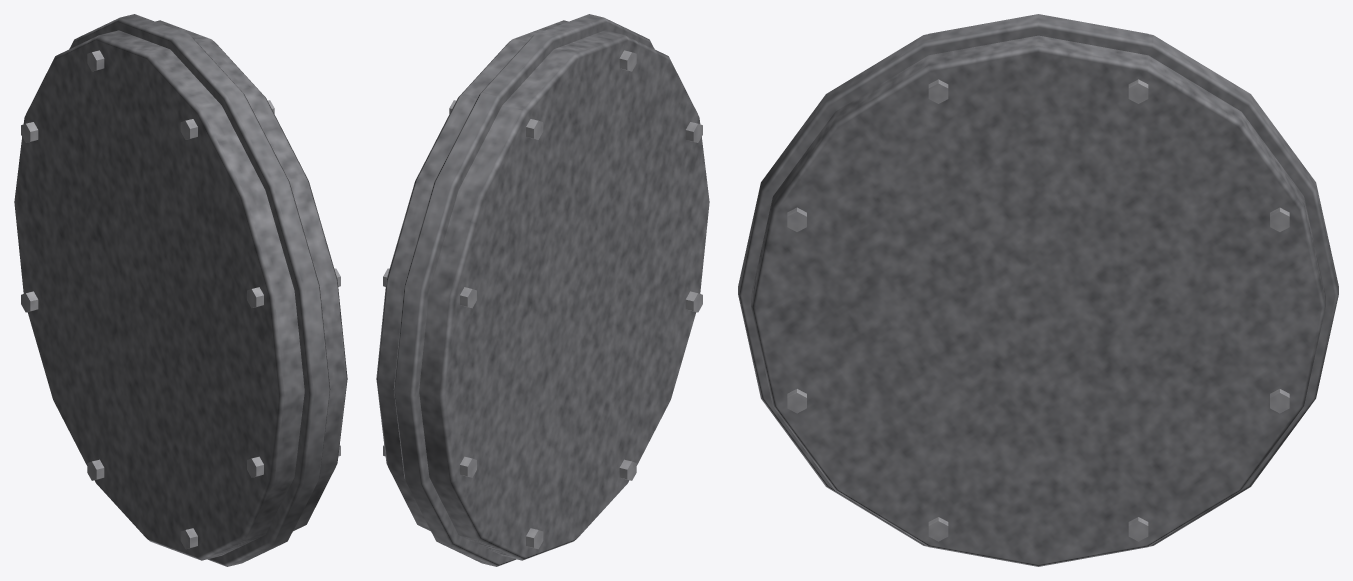
Rendered from nodexeus-band.glb.
The picture shows the model from 3 angles, left to right: view 1: azimuth 30°, elevation 25°; view 2: azimuth 150°, elevation 25°; view 3: azimuth 270°, elevation 25°; orthographic projection. The views are drawn at different scales.
Parts seen in each view (by area): view 1: band; view 2: band; view 3: band.
Part boxes in pixels (box(x1,y1,x2,y2)): band: box(14, 14, 347, 566); band: box(376, 14, 709, 566); band: box(738, 14, 1338, 566).
Bounding box in the file's own units: 0.32 × 1.84 × 1.84.
1 material, 1 textured.
